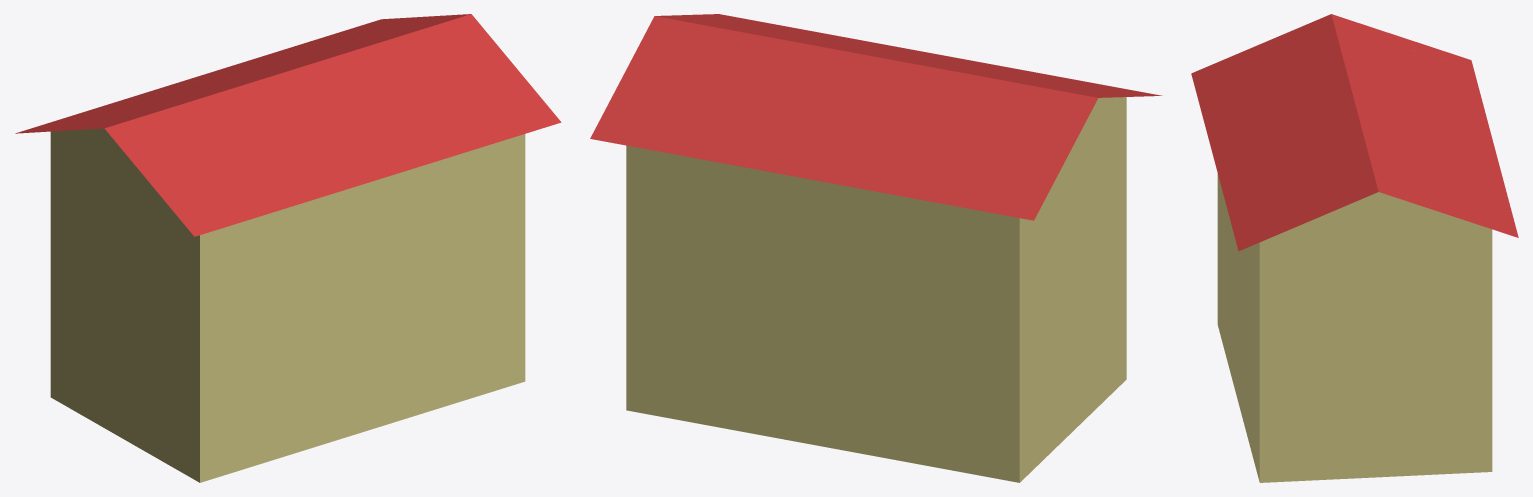
3 renders of one model, left to right at view 1: azimuth 30°, elevation 25°; view 2: azimuth 150°, elevation 25°; view 3: azimuth 270°, elevation 25°, orthographic. The views are drawn at different scales.
Size of the model in its own units: 9.41 by 6.81 by 6.78.
